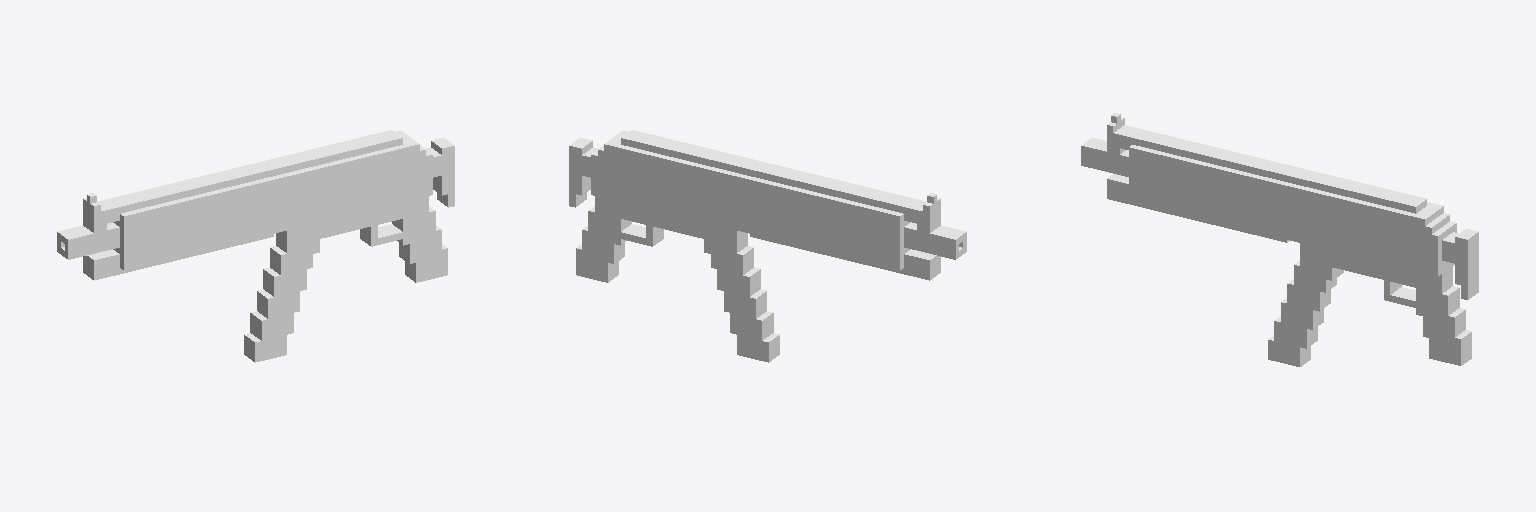
The picture shows the model from 3 angles: view 1: azimuth 30°, elevation 25°; view 2: azimuth 150°, elevation 25°; view 3: azimuth 330°, elevation 25°; orthographic projection.
Parts seen in each view (by area): view 1: mp5; view 2: mp5; view 3: mp5.
Boxes of the visible parts, box(x1,y1,x2,y2) form: mp5: box(57, 130, 454, 362); mp5: box(569, 130, 966, 362); mp5: box(1081, 113, 1478, 366).
Bounding box in the file's own units: 60 × 30 × 5.